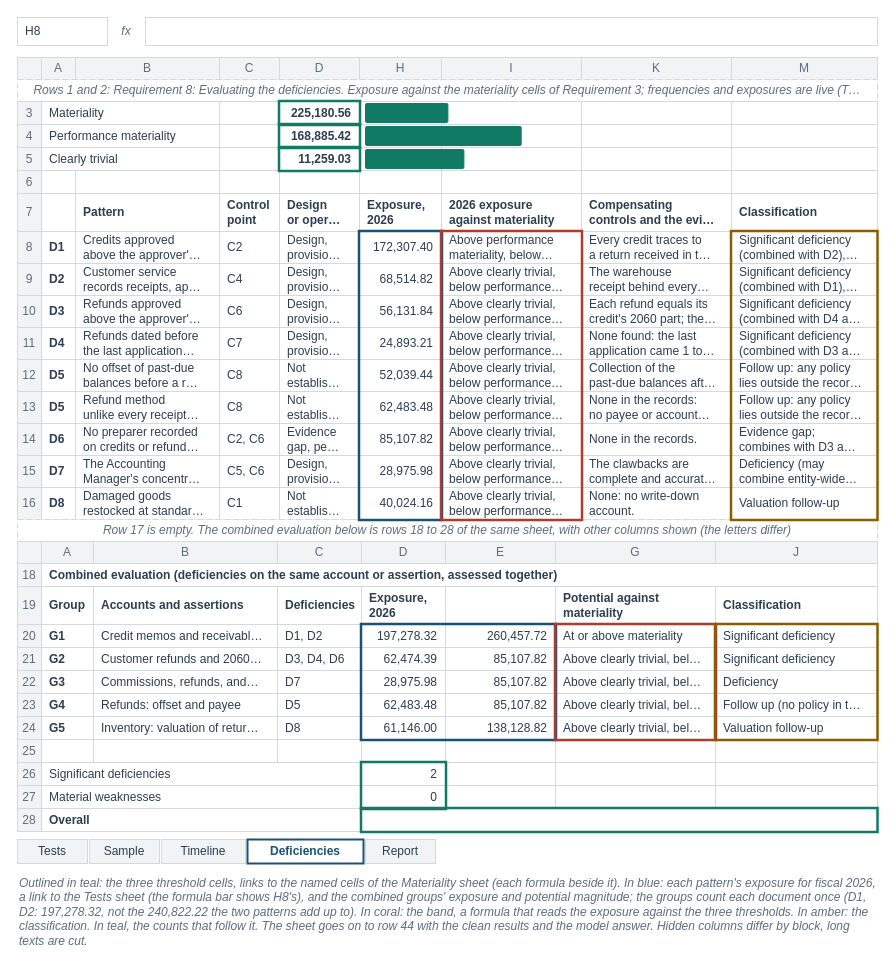
This 896x972 diagram has some shape labels left out. The shapes that lost their labels are listed below. From the top down, each one's box as (x1, y1, x2, y2) in pixels, then its label:
(144, 16, 878, 46): =Tests!J5
(364, 102, 448, 122): =Materiality
(364, 126, 521, 146): =PerformanceMateriality
(364, 148, 464, 168): =ClearlyTrivial
(40, 192, 76, 232): ID
(444, 586, 556, 624): Potential magnitude, 2…
(360, 808, 878, 832): No material weakness identified (provisional)
